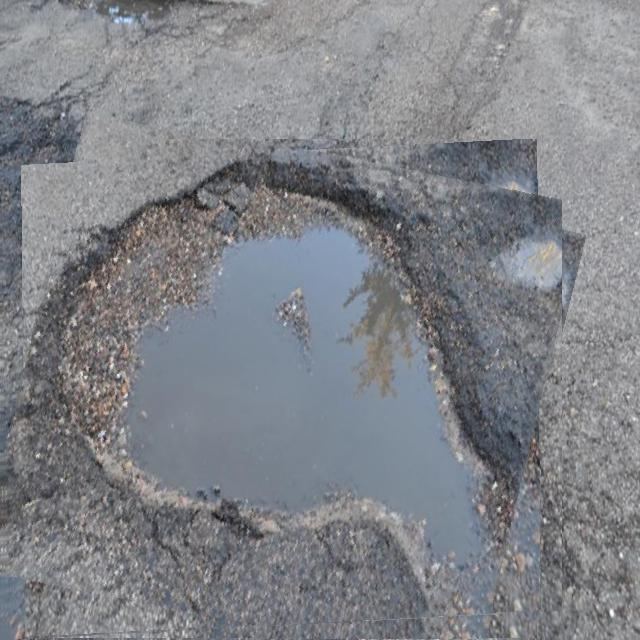Pothole: (0, 139, 562, 640)
